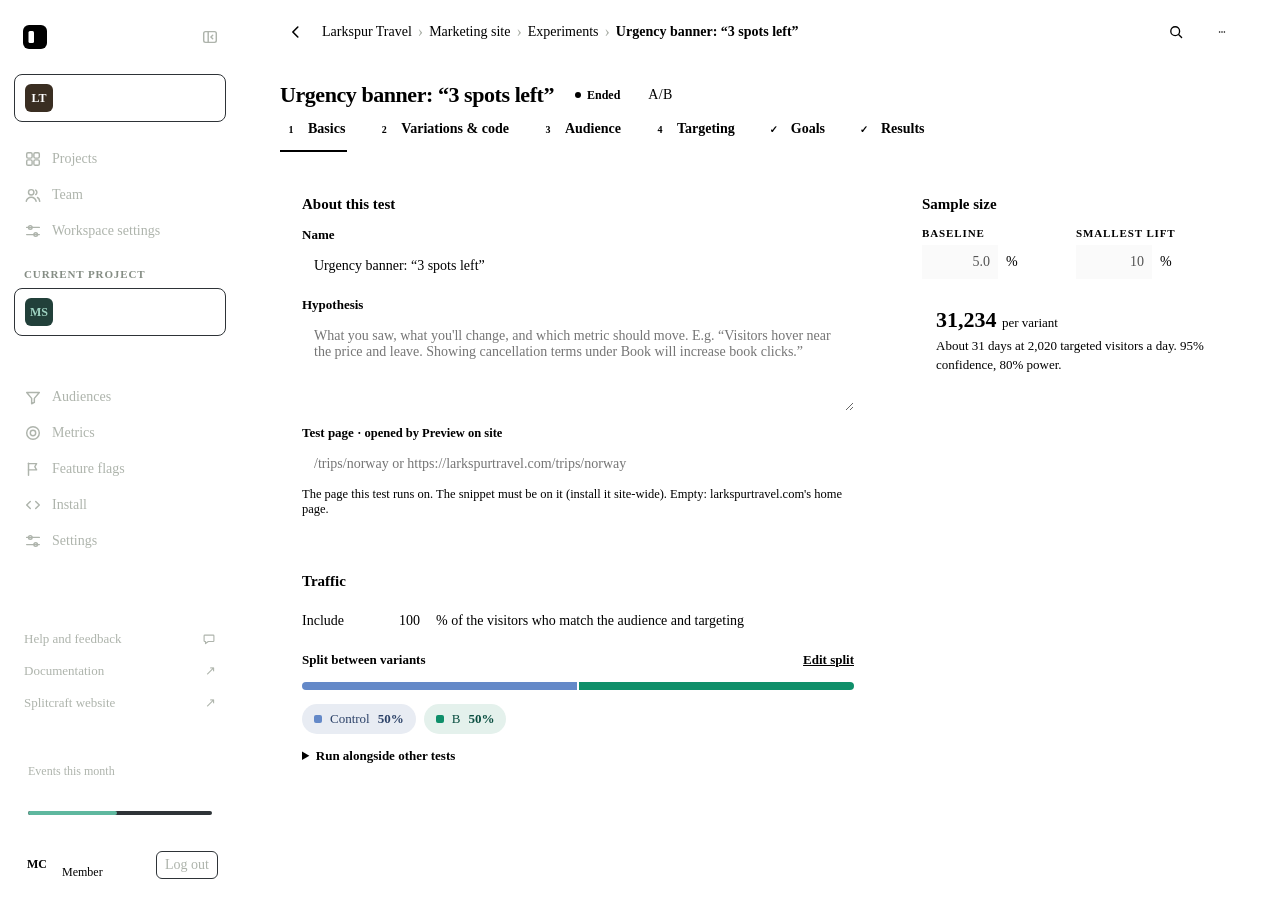
Test: experiment actions menu › only lets owners and admins delete
Check: the navigation bar named "Experiment steps" is shown, box [280,108,925,152]
Click the button named "More actions". click: {"x": 1222, "y": 32}
box: [1204,14,1240,50]
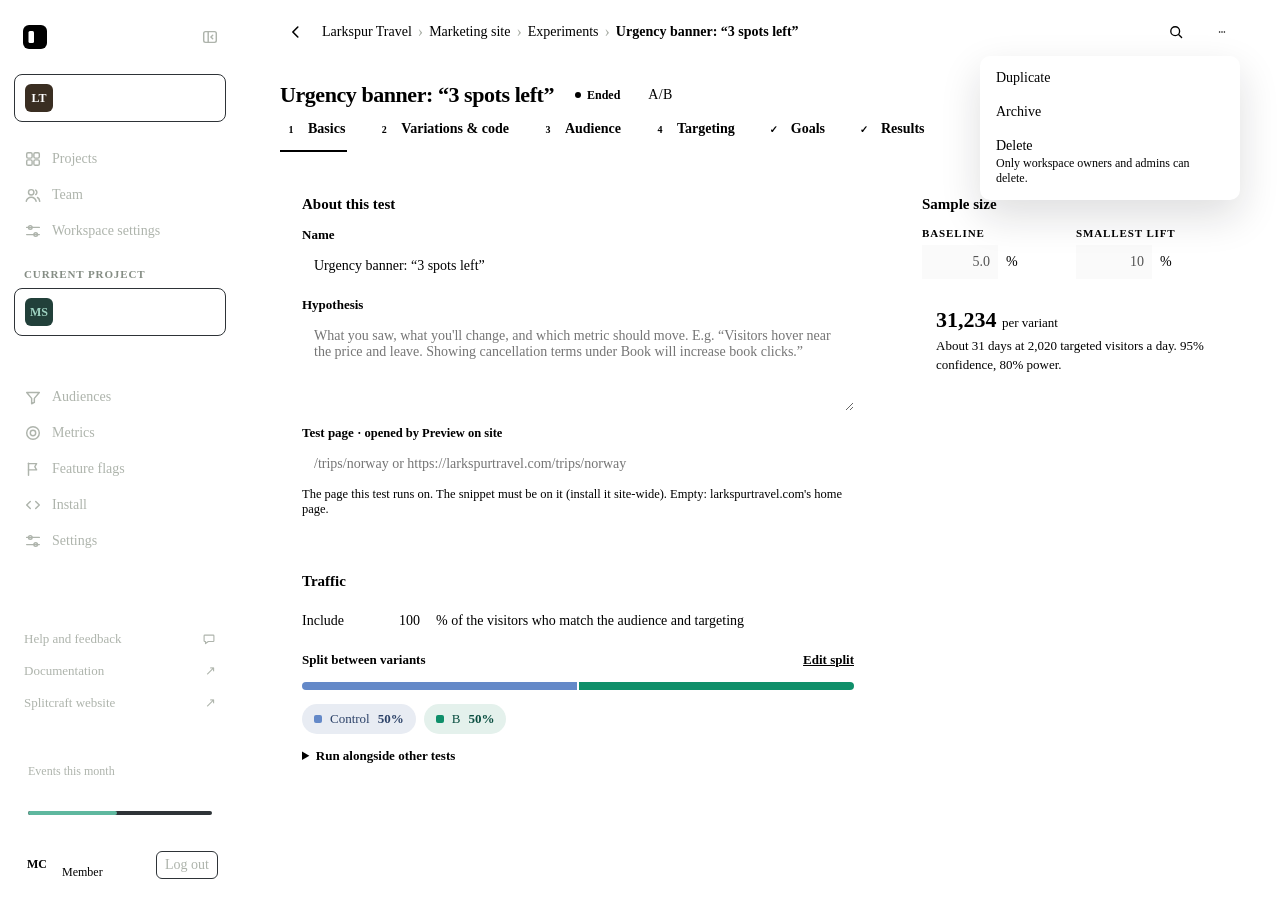
Check: the menu item "Delete Only workspace owners and admins can delete." is shown, box [986,130,1234,194]
